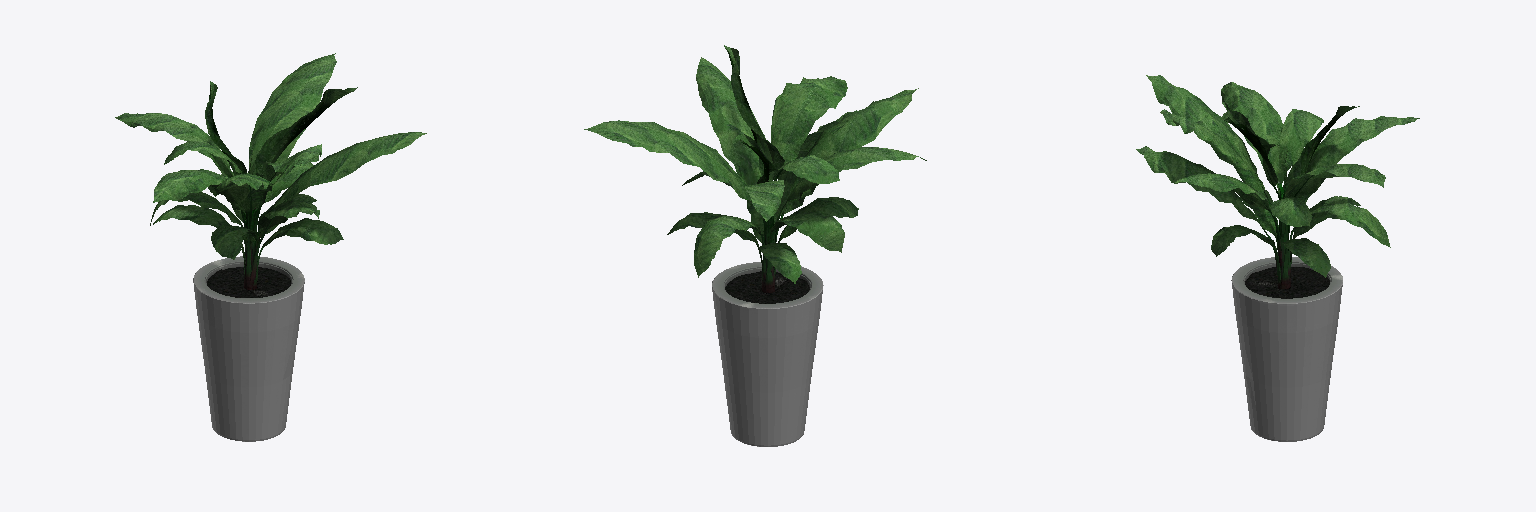
3 renders of one model, left to right at view 1: azimuth 30°, elevation 25°; view 2: azimuth 150°, elevation 25°; view 3: azimuth 270°, elevation 25°, orthographic.
Visible parts, largest first — view 1: arch75_034_004; view 2: arch75_034_004; view 3: arch75_034_004.
Part boxes in pixels (x1,y1,x2,y2): arch75_034_004: (115,53,426,441); arch75_034_004: (584,45,926,446); arch75_034_004: (1136,75,1419,441).
Size of the model in its own units: 86.48 by 108 by 81.73.
Materials: 1 (1 with a texture image).